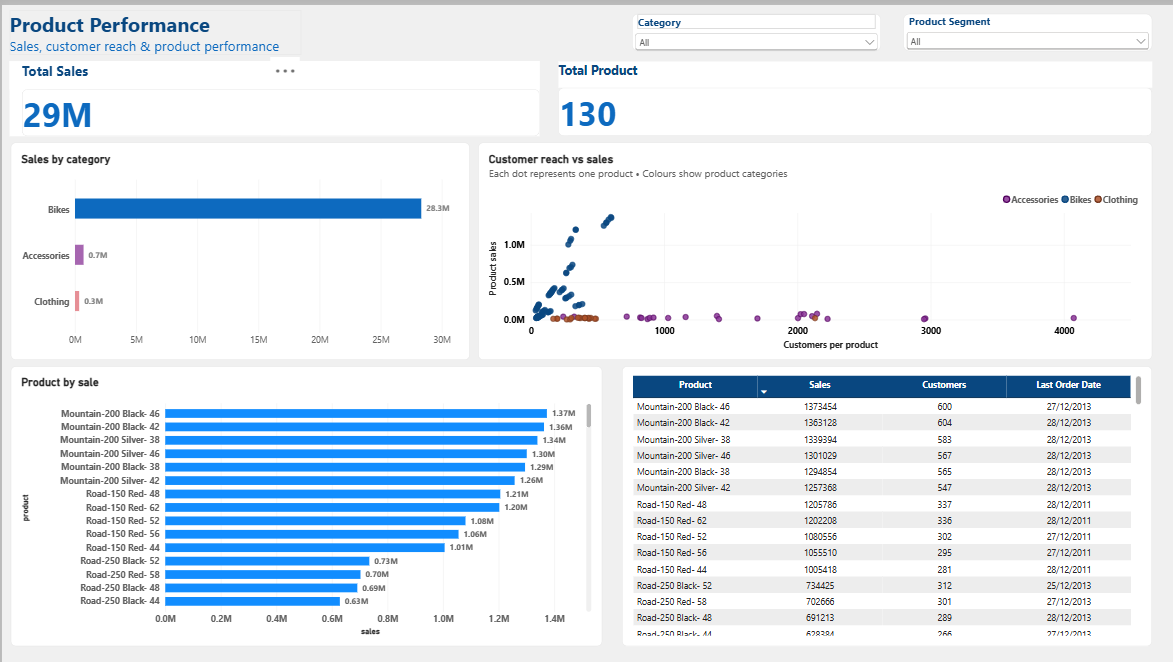

This screenshot's page, from the dashboard's own definition file:
{"tool":"powerbi","page":{"name":"Page 1","canvas":[1920,1080],"ordinal":0},"visuals":[{"type":"cardVisual","title":"Total Sales","fields":{"Data":["Sum(Sheet1.total_sales)"]},"box":[12,90,848,120],"z":0},{"type":"cardVisual","title":"Total Product","fields":{"Data":["Count(Sheet1.product_name)"]},"box":[890,90,950,120],"z":1000},{"type":"textbox","title":"Product Perf","box":[12.5,8.8,466.2,71.2],"z":2000},{"type":"slicer","fields":{"Values":["Sheet1.category"]},"box":[1008,14,398.8,60],"z":3000},{"type":"slicer","fields":{"Values":["Sheet1.product_segment"]},"box":[1441.1,14.4,398.8,60],"z":4000},{"type":"clusteredBarChart","title":"Sales by category","fields":{"Category":["Sheet1.category"],"Y":["Sum(Sheet1.total_sales)"]},"box":[14,220,734,348],"z":5000},{"type":"scatterChart","title":"Customer reach vs sales","fields":{"Category":["Sheet1.product_name"],"Series":["Sheet1.category"],"X":["Sum(Sheet1.total_customers)"],"Y":["Sum(Sheet1.total_sales)"]},"box":[762,220,1078,348],"z":6000},{"type":"barChart","title":"Product by sale","fields":{"Category":["Sheet1.product_name"],"Y":["Sum(Sheet1.total_sales)"]},"box":[14,578,946,448],"z":7000},{"type":"tableEx","fields":{"Values":["Sheet1.product_name","Sum(Sheet1.total_sales)","Sum(Sheet1.total_customers)","Sheet1.last_order_date"]},"box":[992,578,848,448],"z":8000}]}

Visuals, with their boxes in screenshot pixels (x1, y1, x2, y2), scaled from the page's 1920x1080 canvas onto the 1173x662 screenshot:
"Total Sales" cardVisual: <bbox>7, 55, 525, 129</bbox>
"Total Product" cardVisual: <bbox>544, 55, 1124, 129</bbox>
"Product Perf" textbox: <bbox>8, 5, 292, 49</bbox>
slicer - Sheet1.category: <bbox>616, 9, 859, 45</bbox>
slicer - Sheet1.product_segment: <bbox>880, 9, 1124, 46</bbox>
"Sales by category" clusteredBarChart: <bbox>9, 135, 457, 348</bbox>
"Customer reach vs sales" scatterChart: <bbox>466, 135, 1124, 348</bbox>
"Product by sale" barChart: <bbox>9, 354, 586, 629</bbox>
tableEx - Sheet1.product_name x Sum(Sheet1.total_sales): <bbox>606, 354, 1124, 629</bbox>
